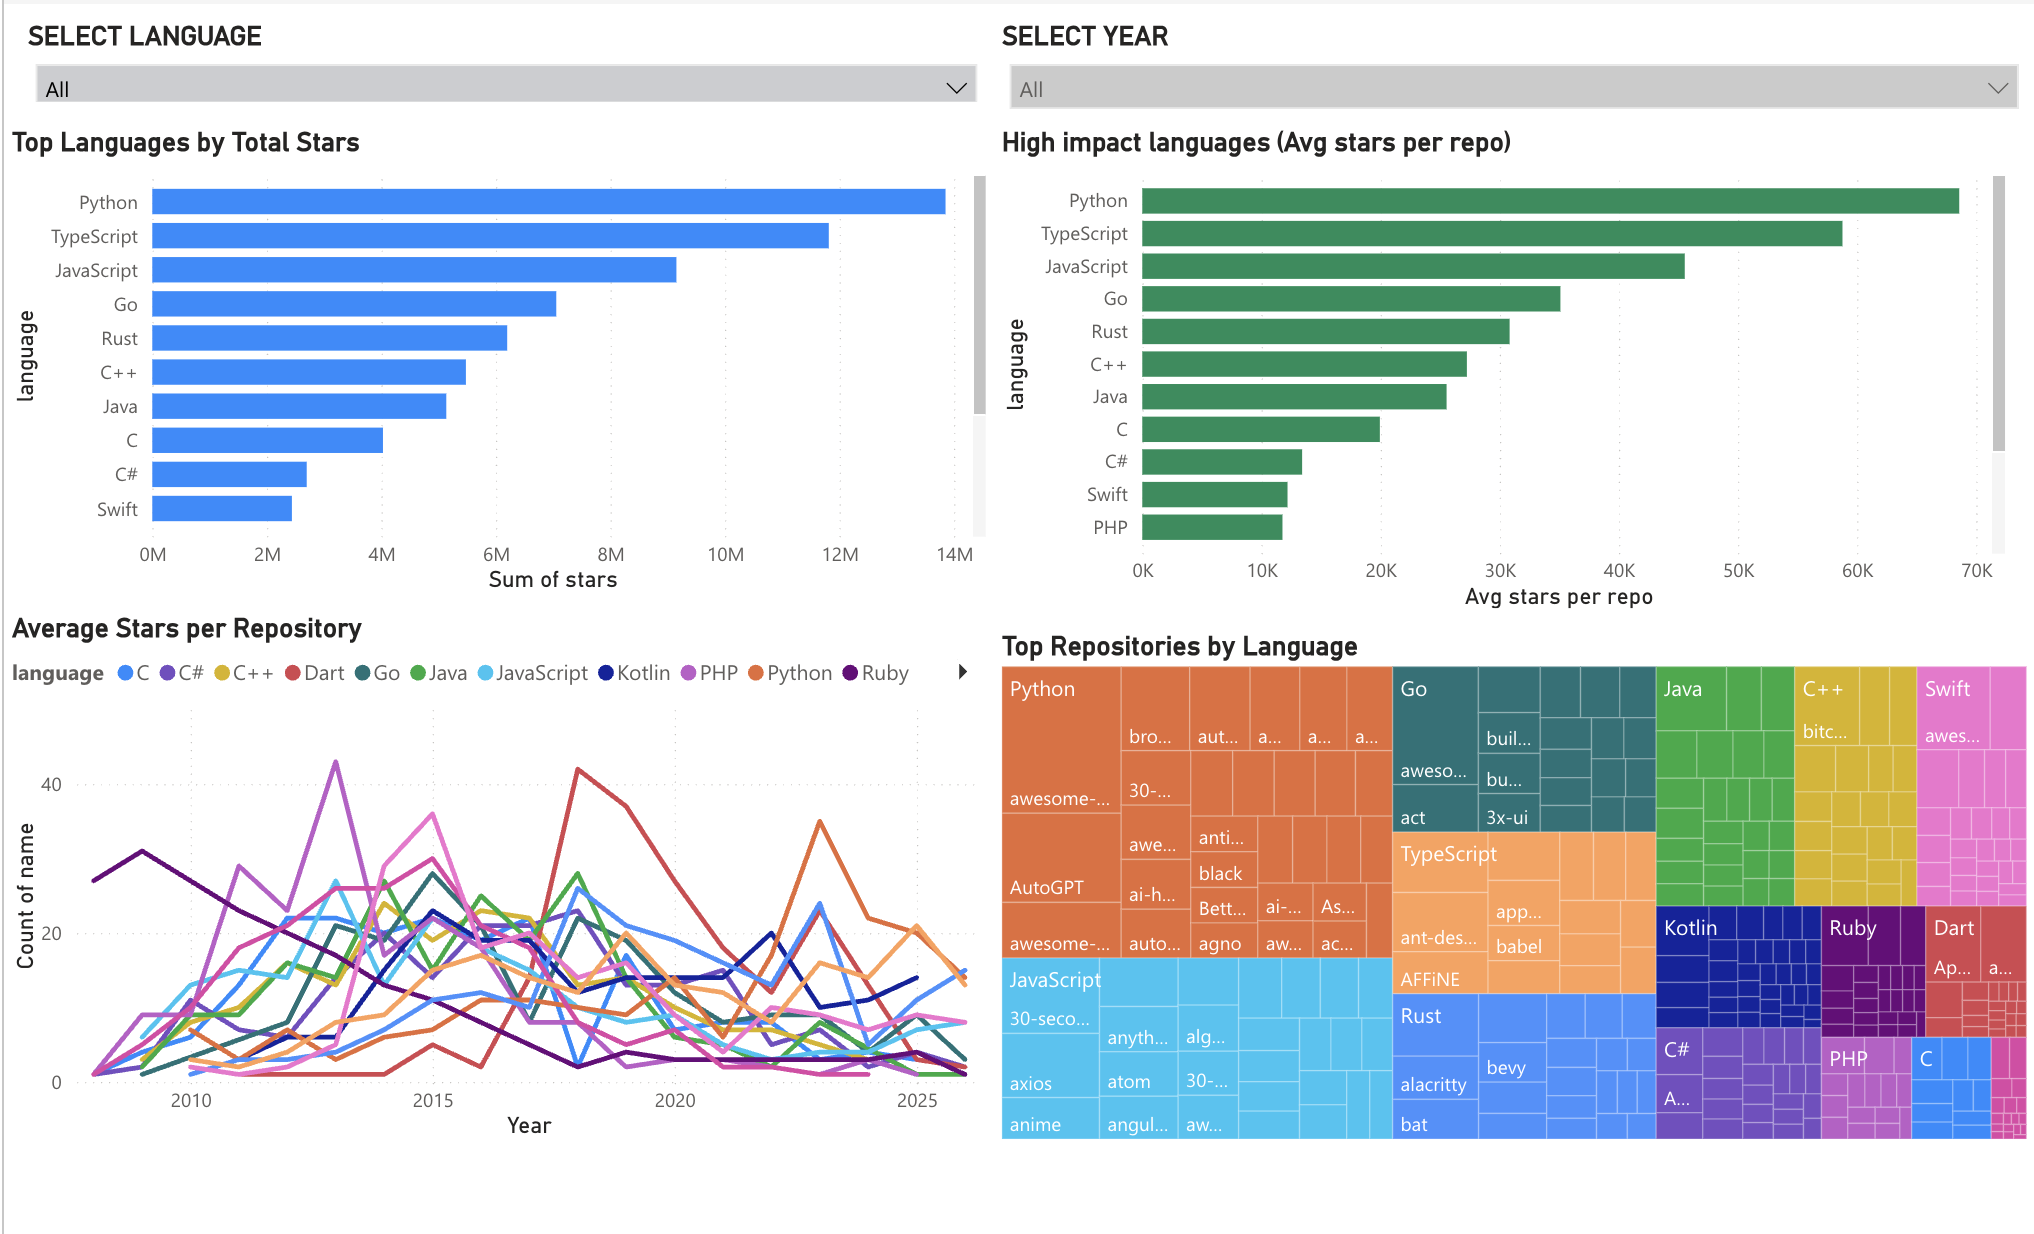

This screenshot's page, from the dashboard's own definition file:
{"tool":"powerbi","page":{"name":"Langauge intelligence","canvas":[1280,720],"ordinal":1},"visuals":[{"type":"clusteredBarChart","title":"Top Languages by Total Stars","fields":{"Category":["github_1000_repos.language"],"Y":["Sum(github_1000_repos.stars)"]},"box":[0,79.3,624,296],"z":0},{"type":"clusteredBarChart","title":"High impact languages (Avg stars per repo)","fields":{"Category":["github_1000_repos.language"],"Y":["github_1000_repos.Avg stars per repo"]},"box":[624,79.3,642.3,306.7],"z":1000},{"type":"slicer","title":"SELECT LANGUAGE","fields":{"Values":["github_1000_repos.language"]},"box":[10.7,12.2,613.3,48.8],"z":2000},{"type":"lineChart","title":"Average Stars per Repository","fields":{"Category":["github_repos.created_at.Variation.Date Hierarchy.Year"],"Series":["github_repos.language"],"Y":["Count(github_repos.name)"]},"box":[0,386,624,334.1],"z":2002},{"type":"slicer","title":"SELECT YEAR","fields":{"Values":["github_repos.created_at.Variation.Date Hierarchy.Year"]},"box":[624,12.2,656,67.1],"z":2003},{"type":"treemap","title":"Top Repositories by Language","fields":{"Details":["github_repos.name"],"Group":["github_repos.language"],"Values":["Sum(github_repos.stars)"]},"box":[624,396.7,656,323.4],"z":2004}]}

Visuals, with their boxes on the page's 1280x720 design canvas (x1, y1, x2, y2). These are canvas units, not pixel positions in the 2034x1234 screenshot, which may show the page scaled, cropped or inside an application window:
"Top Languages by Total Stars" clusteredBarChart: 0:79:624:375
"High impact languages (Avg stars per repo)" clusteredBarChart: 624:79:1266:386
"SELECT LANGUAGE" slicer: 11:12:624:61
"Average Stars per Repository" lineChart: 0:386:624:720
"SELECT YEAR" slicer: 624:12:1280:79
"Top Repositories by Language" treemap: 624:397:1280:720
